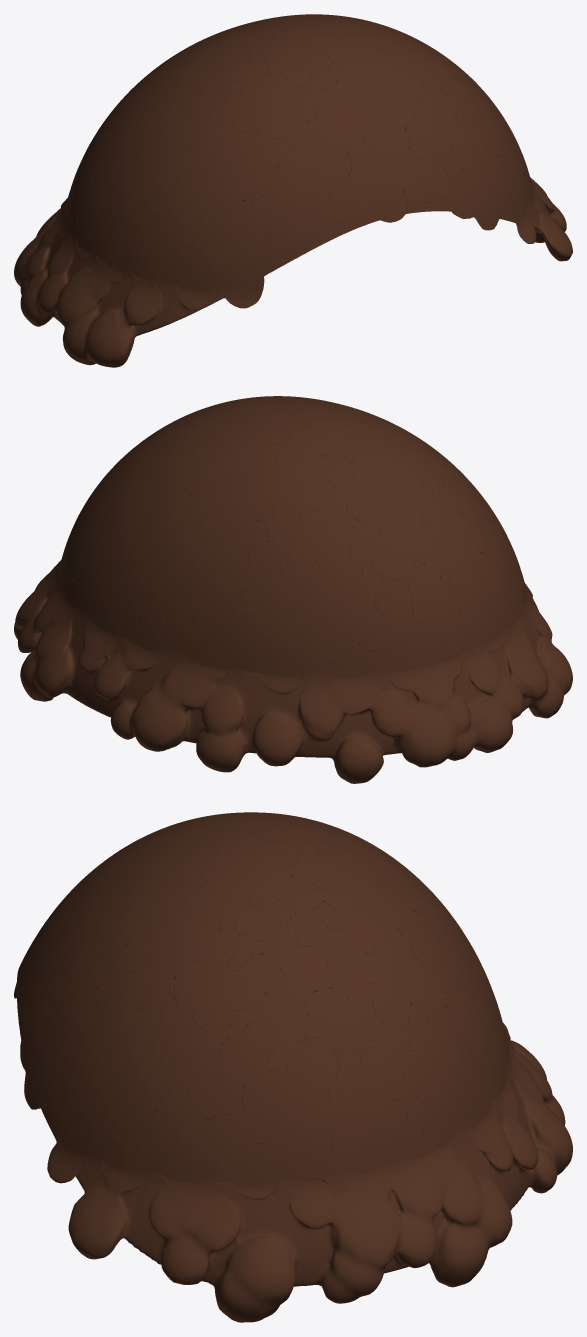
File: Masculine-afro-closed-hair.glb
3 renders of one model, top to bottom at view 1: azimuth 30°, elevation 25°; view 2: azimuth 150°, elevation 25°; view 3: azimuth 270°, elevation 25°, orthographic. The views are drawn at different scales.
Visible parts, largest first — view 1: 226 hair / Hair / dense coiled texture235.001; view 2: 226 hair / Hair / dense coiled texture235.001; view 3: 226 hair / Hair / dense coiled texture235.001.
Part boxes in pixels (x1=…): 226 hair / Hair / dense coiled texture235.001: x1=14, y1=14, x2=572, y2=367; 226 hair / Hair / dense coiled texture235.001: x1=14, y1=396, x2=572, y2=783; 226 hair / Hair / dense coiled texture235.001: x1=14, y1=812, x2=572, y2=1322.
Size of the model in its own units: 1.16 by 0.5892 by 0.8906.
